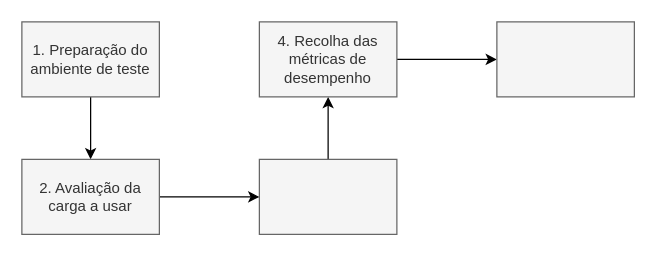
This 656x256 diagram has some shape labels left out. The shapes that lost their labels are listed below. From the top down, each one's centre as x and y in pixels, then its label:
At (x=565, y=59): "5. Análise dos resultados".
At (x=327, y=196): "3. Execução dos testes".
